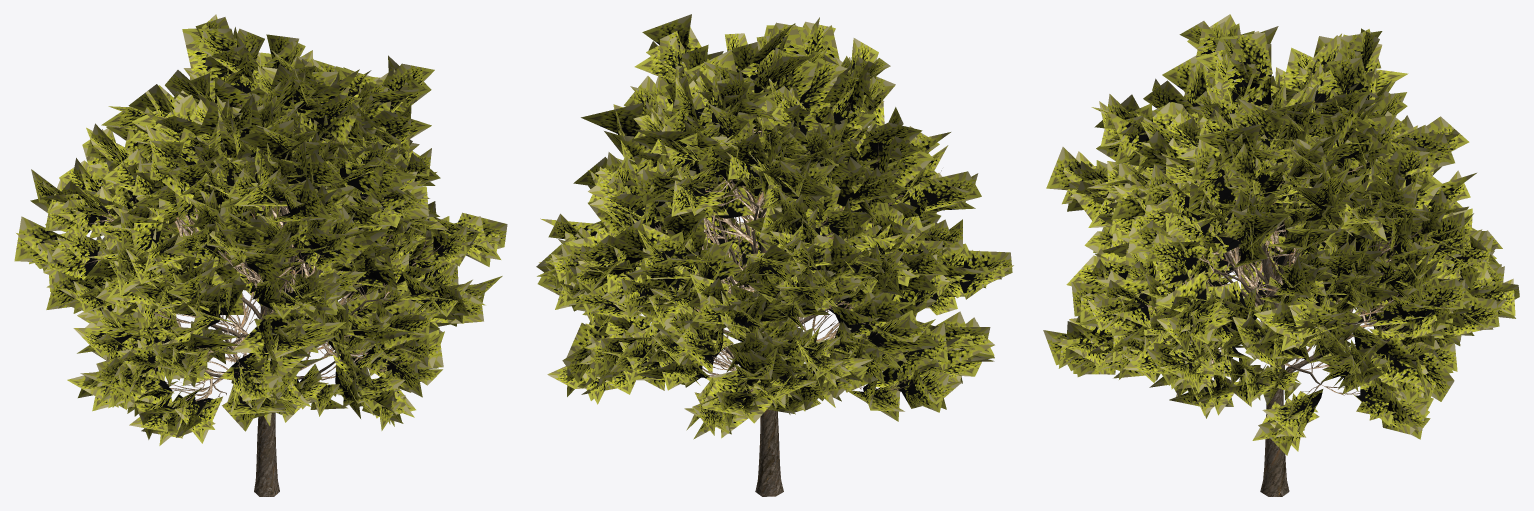
The model's file is tree.glb.
The picture shows the model from 3 angles, left to right: view 1: azimuth 30°, elevation 25°; view 2: azimuth 150°, elevation 25°; view 3: azimuth 270°, elevation 25°; orthographic projection. The views are drawn at different scales.
Visible parts, largest first — view 1: Leaf_6, Bark_9; view 2: Leaf_6, Bark_9; view 3: Leaf_6, Bark_9.
Part boxes in pixels (x1=…): Leaf_6: x1=14, y1=14, x2=507, y2=445; Bark_9: x1=205, y1=201, x2=397, y2=496; Leaf_6: x1=536, y1=14, x2=1013, y2=439; Bark_9: x1=718, y1=129, x2=842, y2=496; Leaf_6: x1=1043, y1=14, x2=1519, y2=455; Bark_9: x1=1206, y1=232, x2=1394, y2=496.
Bounding box in the file's own units: 7.74 × 8.25 × 7.76.
Materials: 3 (3 with a texture image).
